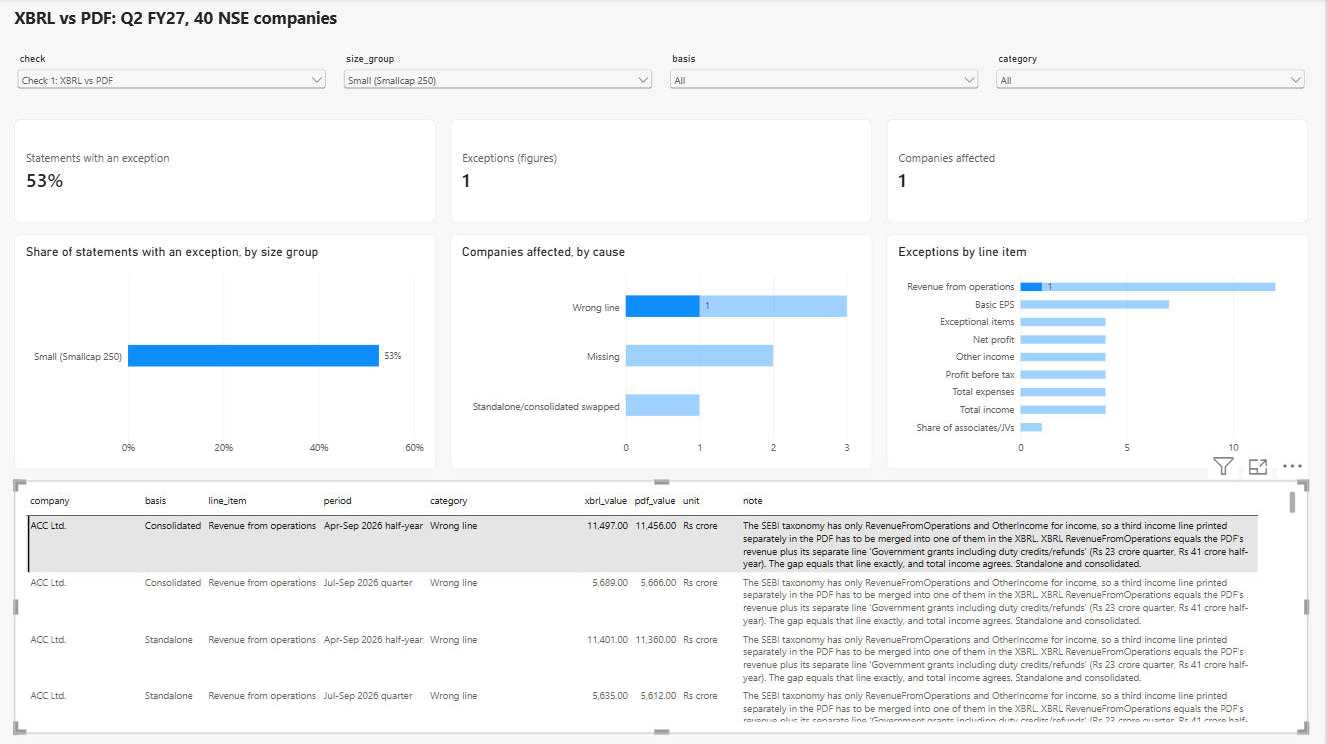

What the dashboard file says about the page in this screenshot:
{"tool":"powerbi","page":{"name":"Page 1","canvas":[1920,1080],"ordinal":0},"visuals":[{"type":"cardVisual","fields":{"Data":["exceptions.Share of statements with an exception"]},"box":[24,176,610,150],"z":0},{"type":"cardVisual","fields":{"Data":["exceptions.Exceptions"]},"box":[655,176,610,150],"z":1},{"type":"cardVisual","fields":{"Data":["exceptions.Companies affected"]},"box":[1286,176,610,150],"z":2},{"type":"clusteredBarChart","title":"Share of statements with an exception, by size group","fields":{"Category":["statements.size_group"],"Y":["exceptions.Share of statements with an exception"]},"box":[24,342,610,340],"z":3},{"type":"clusteredBarChart","title":"Companies affected, by cause","fields":{"Category":["exceptions.category"],"Y":["exceptions.Companies affected"]},"box":[655,342,610,340],"z":4},{"type":"clusteredBarChart","title":"Exceptions by line item","fields":{"Category":["exceptions.line_item"],"Y":["exceptions.Exceptions"]},"box":[1286,342,610,340],"z":5},{"type":"tableEx","fields":{"Values":["exceptions.company","exceptions.basis","exceptions.line_item","exceptions.period","exceptions.category","exceptions.xbrl_value","exceptions.pdf_value","exceptions.unit","exceptions.note"]},"box":[24,698,1872,366],"z":6},{"type":"textbox","box":[24,12,1000,56],"z":7},{"type":"slicer","fields":{"Values":["statements.check"]},"box":[24,80,456,80],"z":8},{"type":"slicer","fields":{"Values":["statements.size_group"]},"box":[496,80,456,80],"z":9},{"type":"slicer","fields":{"Values":["statements.basis"]},"box":[968,80,456,80],"z":10},{"type":"slicer","fields":{"Values":["exceptions.category"]},"box":[1440,80,456,80],"z":11}]}

Visuals, with their boxes in screenshot pixels (x1, y1, x2, y2), scaled from the page's 1920x1080 canvas onto the 1327x744 screenshot:
cardVisual - exceptions.Share of statements with an exception: pyautogui.locateOnScreen(17, 121, 438, 225)
cardVisual - exceptions.Exceptions: pyautogui.locateOnScreen(453, 121, 874, 225)
cardVisual - exceptions.Companies affected: pyautogui.locateOnScreen(889, 121, 1310, 225)
"Share of statements with an exception, by size group" clusteredBarChart: pyautogui.locateOnScreen(17, 236, 438, 470)
"Companies affected, by cause" clusteredBarChart: pyautogui.locateOnScreen(453, 236, 874, 470)
"Exceptions by line item" clusteredBarChart: pyautogui.locateOnScreen(889, 236, 1310, 470)
tableEx - exceptions.company x exceptions.basis: pyautogui.locateOnScreen(17, 481, 1310, 733)
textbox: pyautogui.locateOnScreen(17, 8, 708, 47)
slicer - statements.check: pyautogui.locateOnScreen(17, 55, 332, 110)
slicer - statements.size_group: pyautogui.locateOnScreen(343, 55, 658, 110)
slicer - statements.basis: pyautogui.locateOnScreen(669, 55, 984, 110)
slicer - exceptions.category: pyautogui.locateOnScreen(995, 55, 1310, 110)
